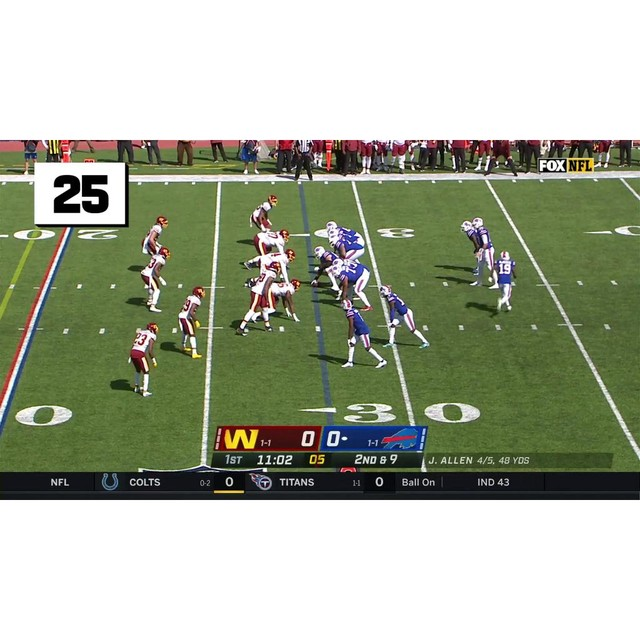american-football-player: (339, 298, 387, 369), (237, 261, 280, 336), (379, 286, 429, 349), (128, 323, 160, 397), (139, 246, 171, 311), (177, 286, 205, 358), (241, 229, 289, 269), (331, 266, 373, 311), (470, 219, 496, 288), (490, 249, 518, 313), (264, 279, 302, 322), (310, 246, 342, 294), (253, 249, 296, 283), (141, 216, 168, 256), (250, 194, 278, 231), (329, 234, 365, 262), (328, 220, 365, 245)
referee: (293, 140, 316, 182)
